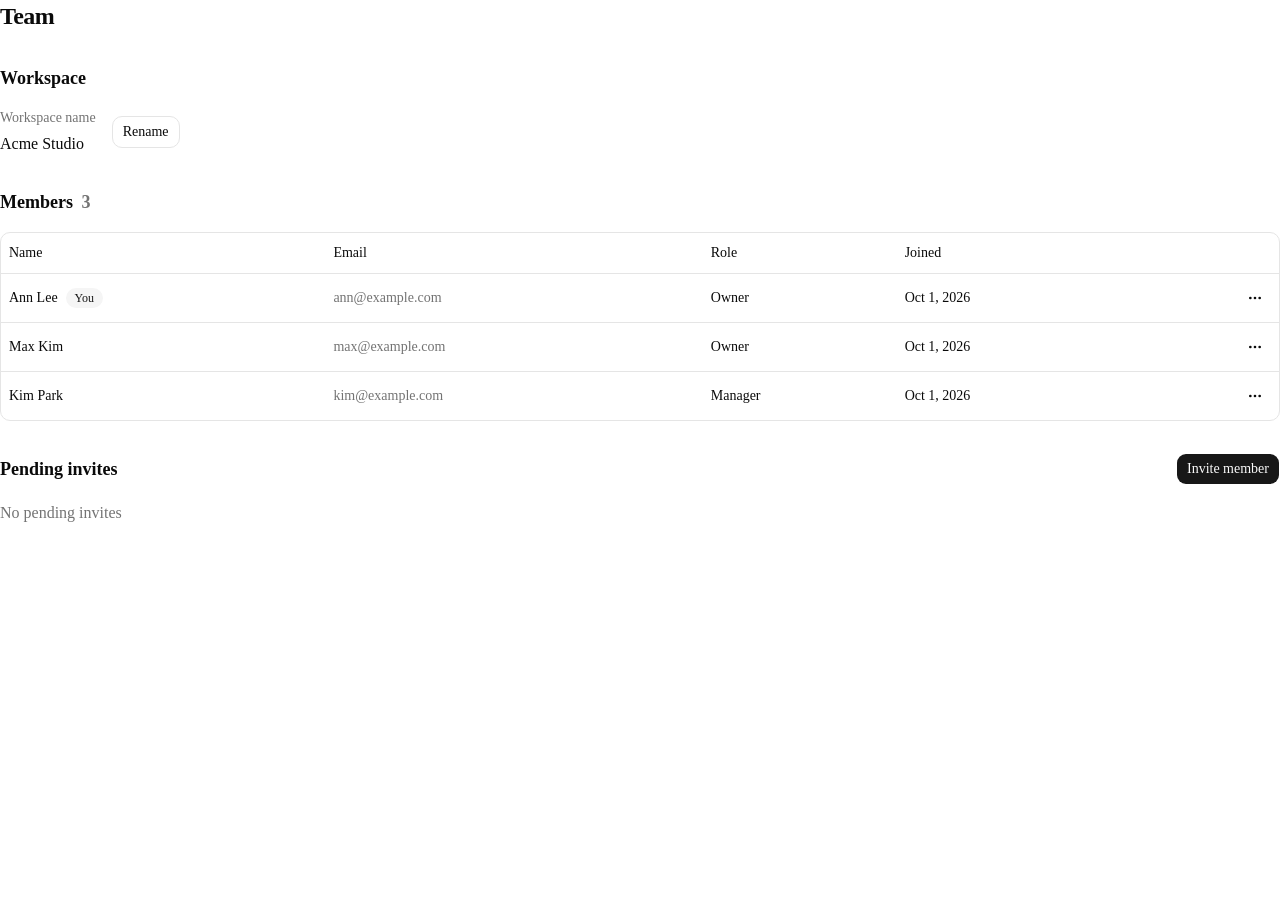
TeamView › roles › should confirm, refetch the session and drop the actions when the owner demotes themselves
This screenshot has width=1280, height=900.
Click the button named "Actions for Ann Lee" at [1255, 298], box [1239, 282, 1271, 314]
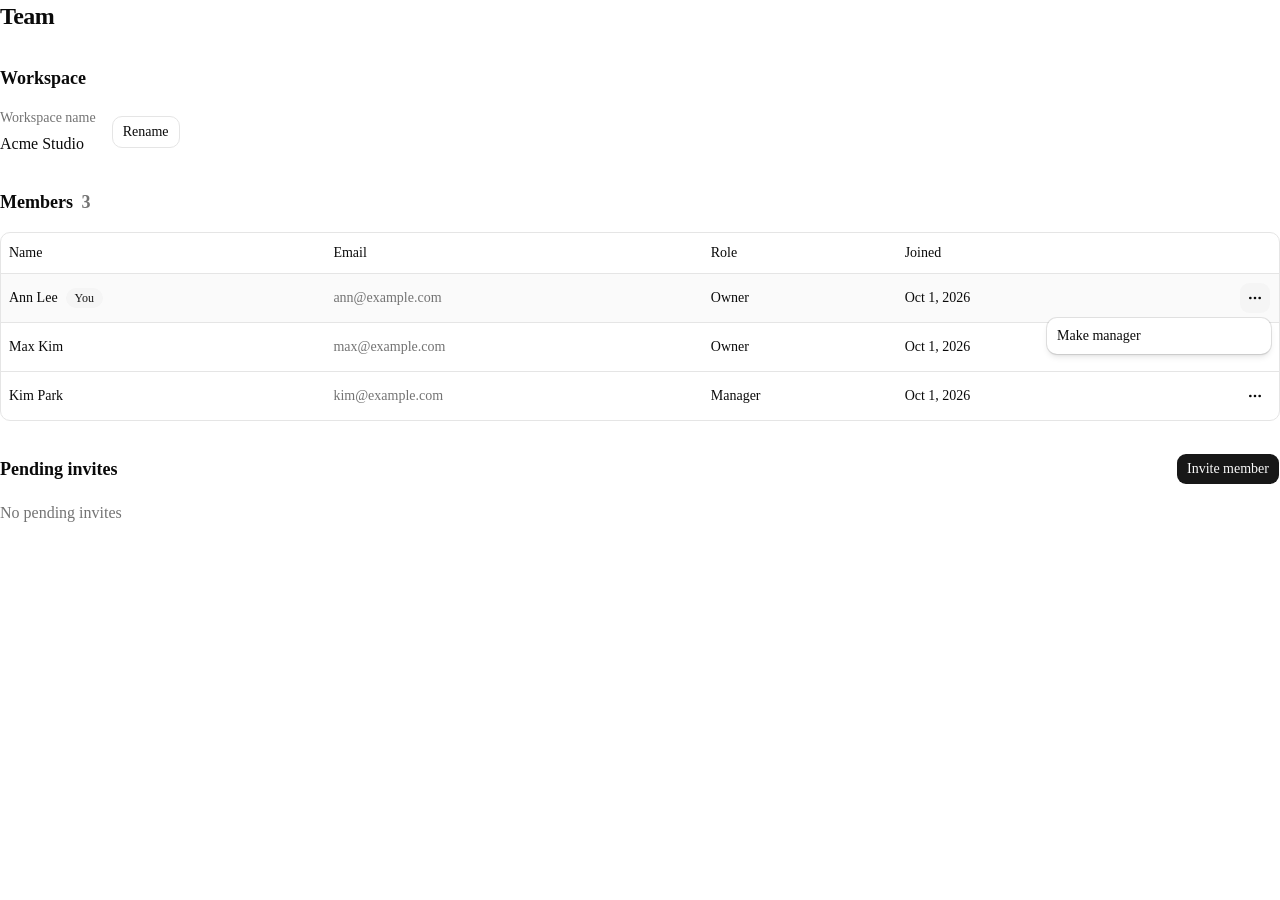
Click the menu item "Make manager" at [1099, 336], box [1057, 328, 1141, 343]
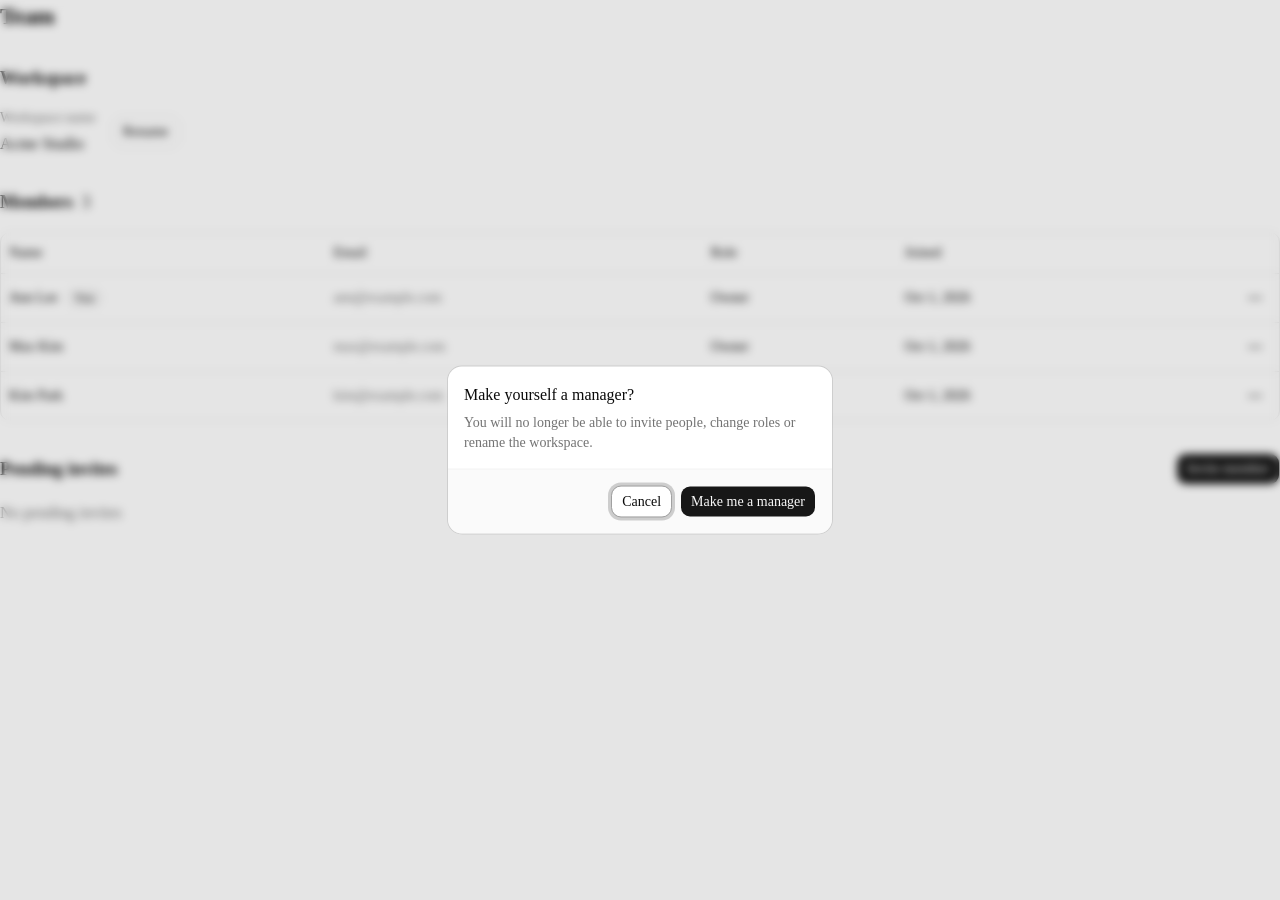
Click the button "Make me a manager" at [748, 502], box [680, 486, 816, 518]
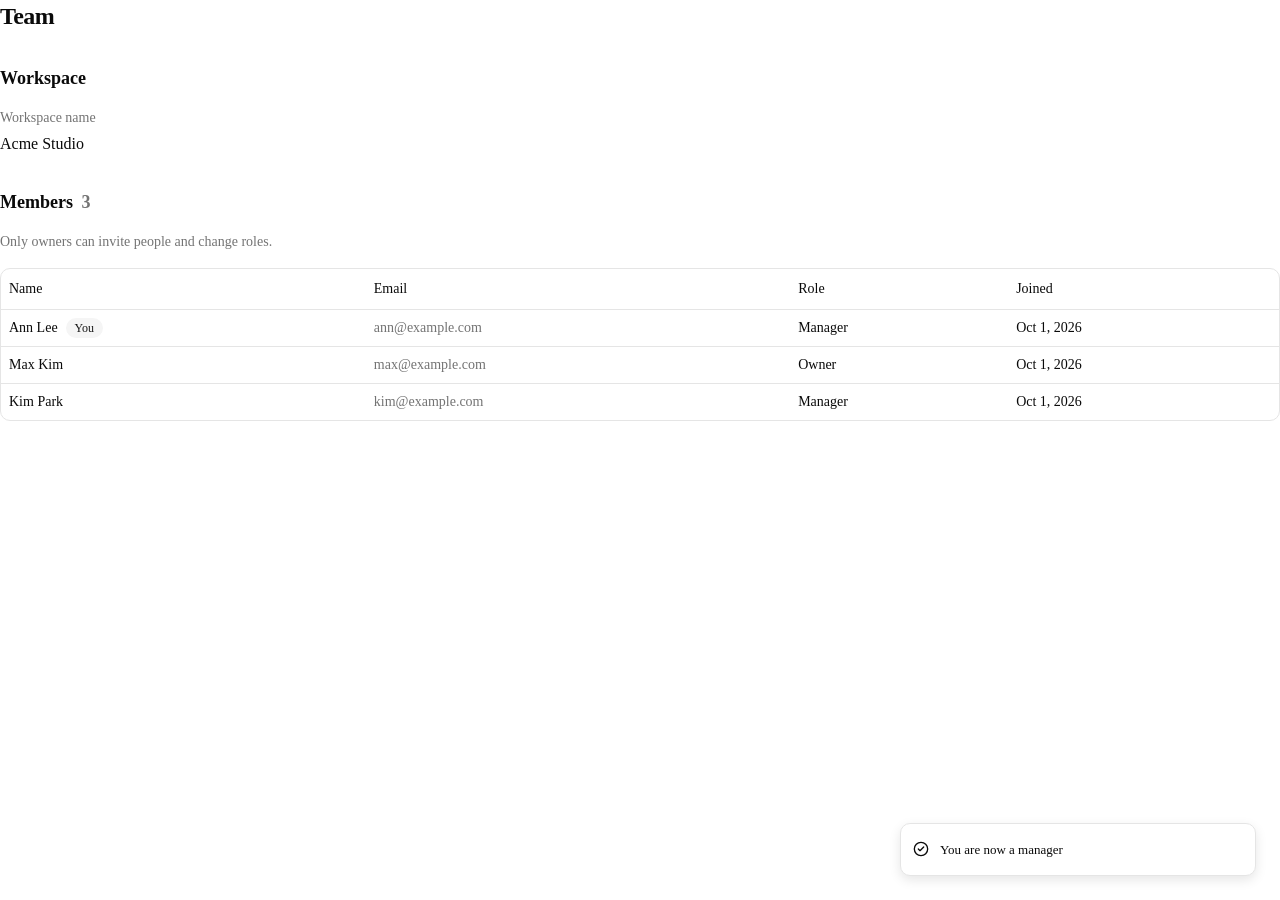
Expected: the text "You are now a manager" is shown, [940, 840, 1063, 859]
